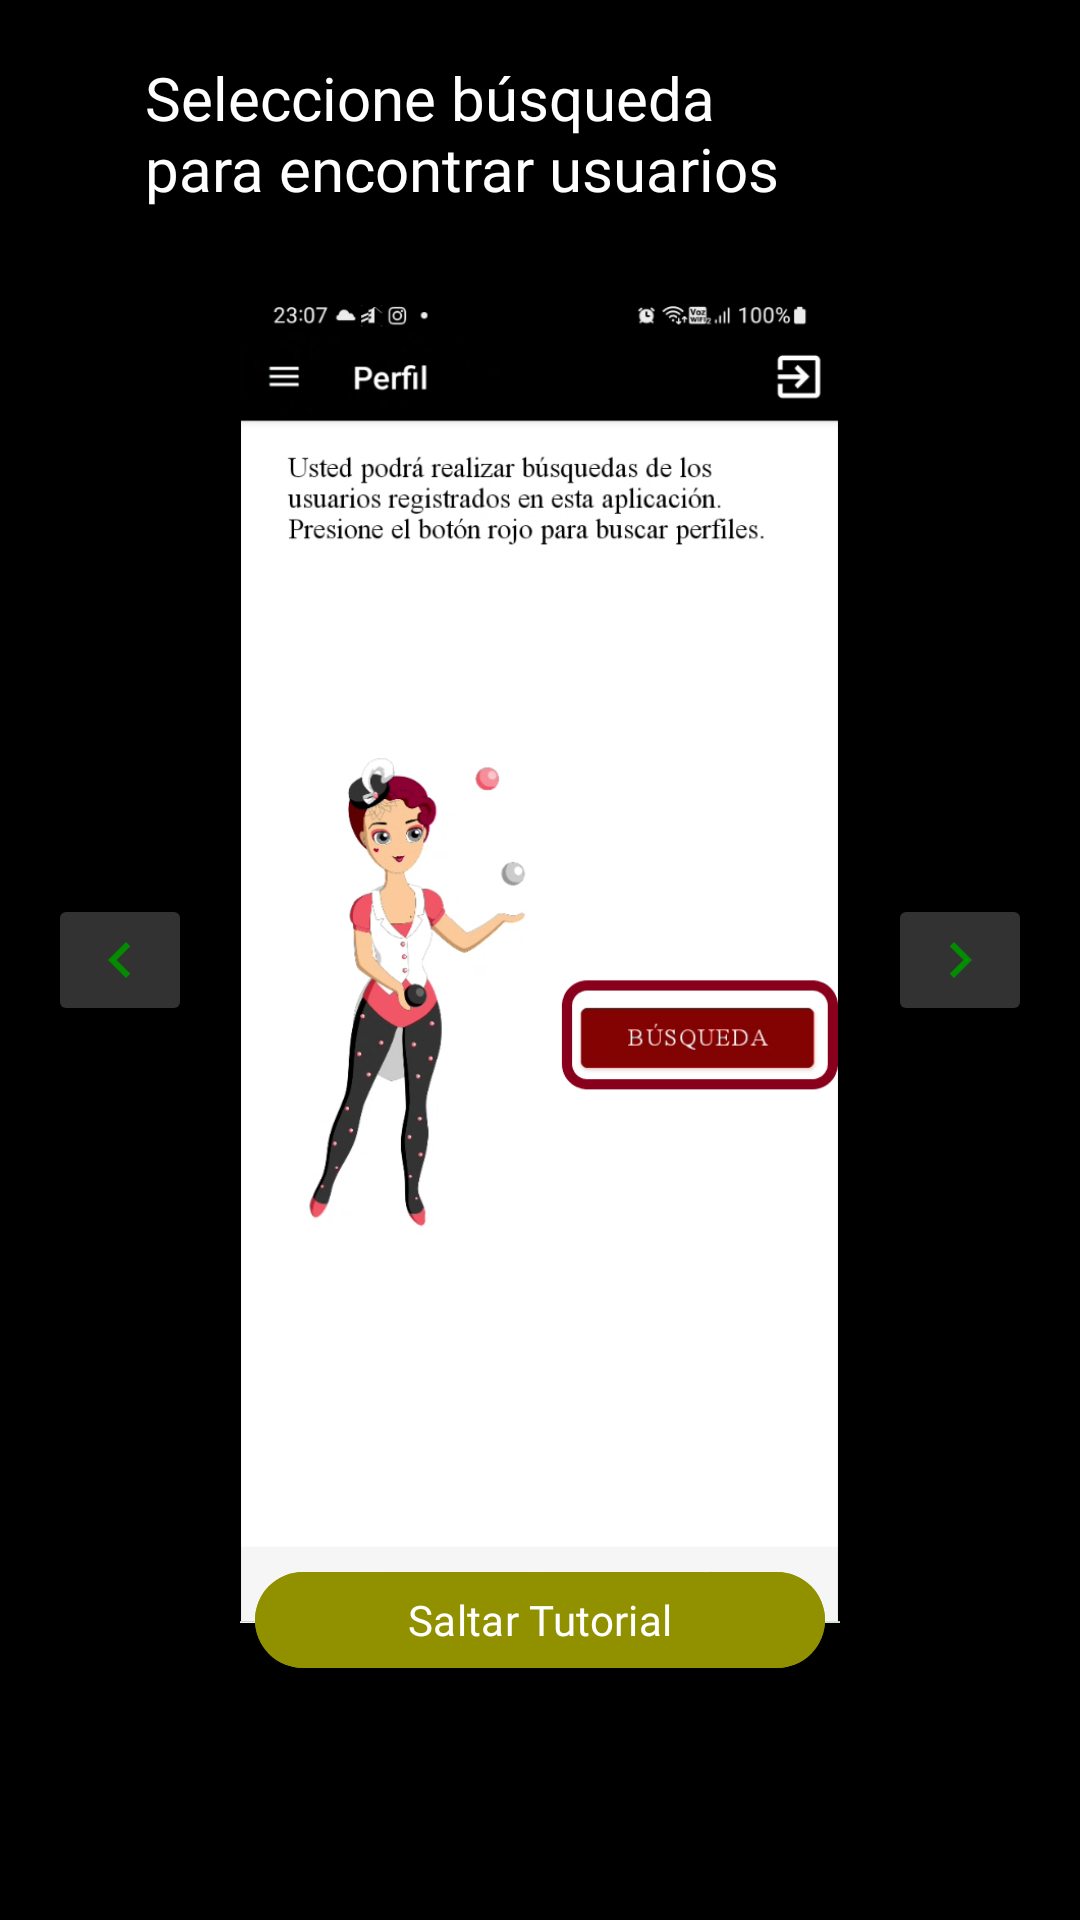

Icons on this 1080*1920 Android screen, each with its box as box=[x1, y1, x2, y2]:
Anterior: box=[60, 912, 180, 1008]
Siguiente: box=[900, 912, 1020, 1008]
